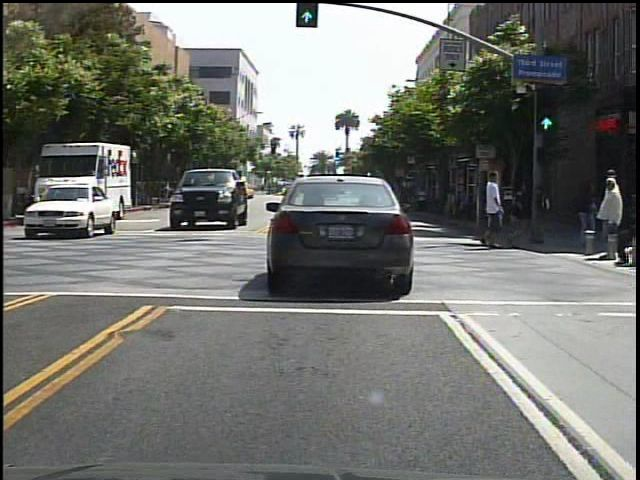person: (476, 166, 513, 252), (600, 167, 626, 263), (534, 175, 555, 245), (413, 183, 432, 216), (590, 177, 591, 245)
